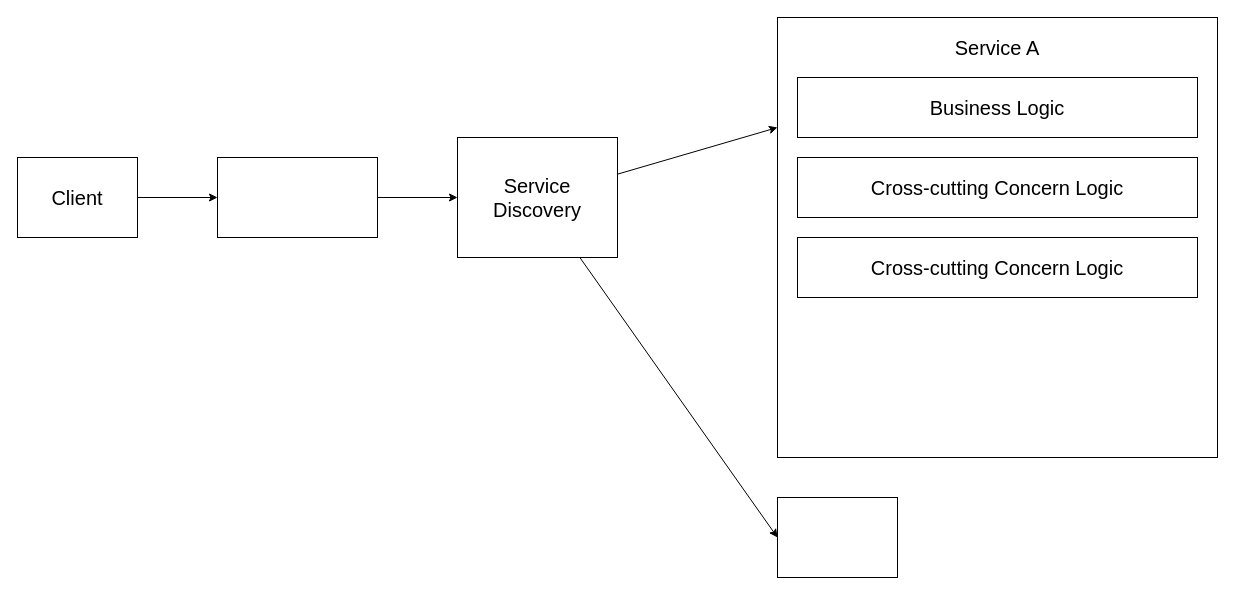
Some shapes in this 1235 by 595 pixel diagram are drawn without their labels. Here are the shapes that lost their labels. From the top down, the centre of each, then its label:
At (297,197): "API Gateway".
At (837,537): "Service B".
